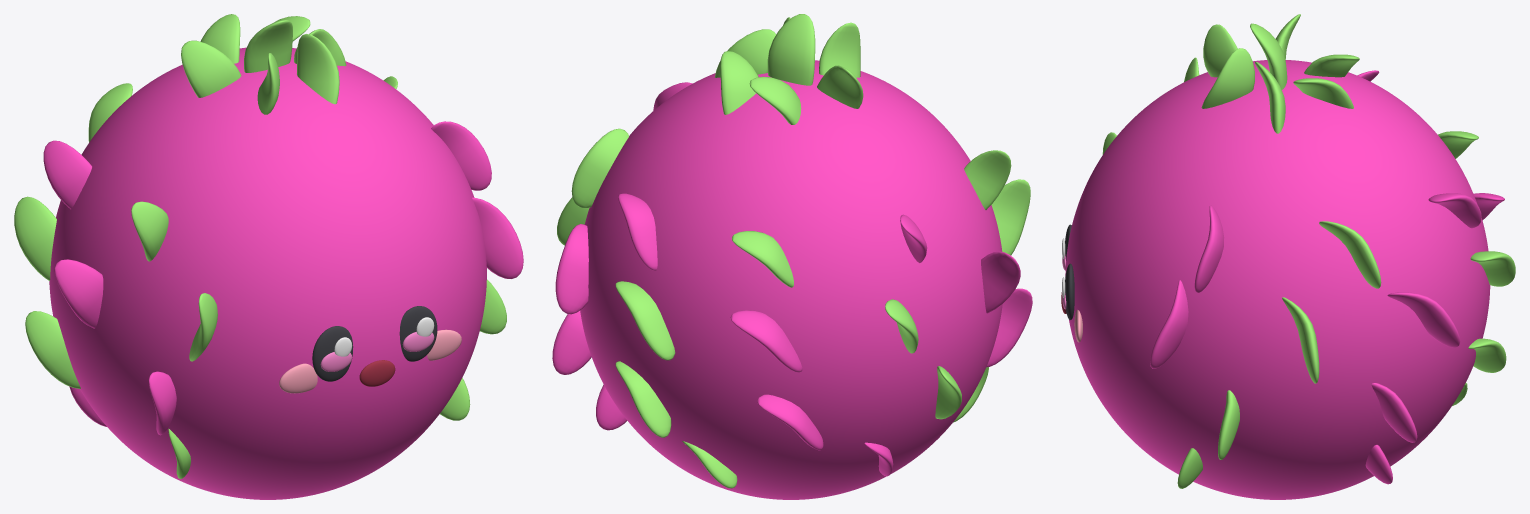
Rendered from pitaya.glb.
3 renders of one model, left to right at view 1: azimuth 30°, elevation 25°; view 2: azimuth 150°, elevation 25°; view 3: azimuth 270°, elevation 25°, orthographic. The views are drawn at different scales.
Parts seen in each view (by area): view 1: Fruit_Pitaya; view 2: Fruit_Pitaya; view 3: Fruit_Pitaya.
Boxes of the visible parts, left/top/right/bottom form: Fruit_Pitaya: left=14, top=14, right=523, bottom=499; Fruit_Pitaya: left=552, top=14, right=1032, bottom=499; Fruit_Pitaya: left=1061, top=14, right=1515, bottom=499.
Bounding box in the file's own units: 4.87 × 4.92 × 4.45.
